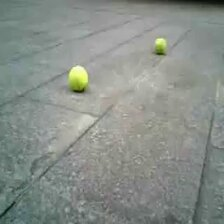tennis: (69, 65, 87, 89), (154, 38, 166, 52)
